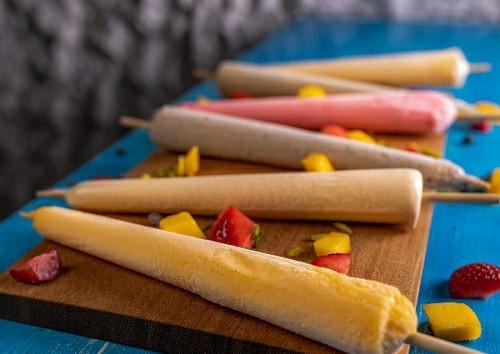Kulfi: (34, 209, 416, 354), (149, 105, 464, 182), (66, 168, 422, 230), (218, 59, 479, 118), (181, 90, 453, 131), (268, 48, 468, 89)
